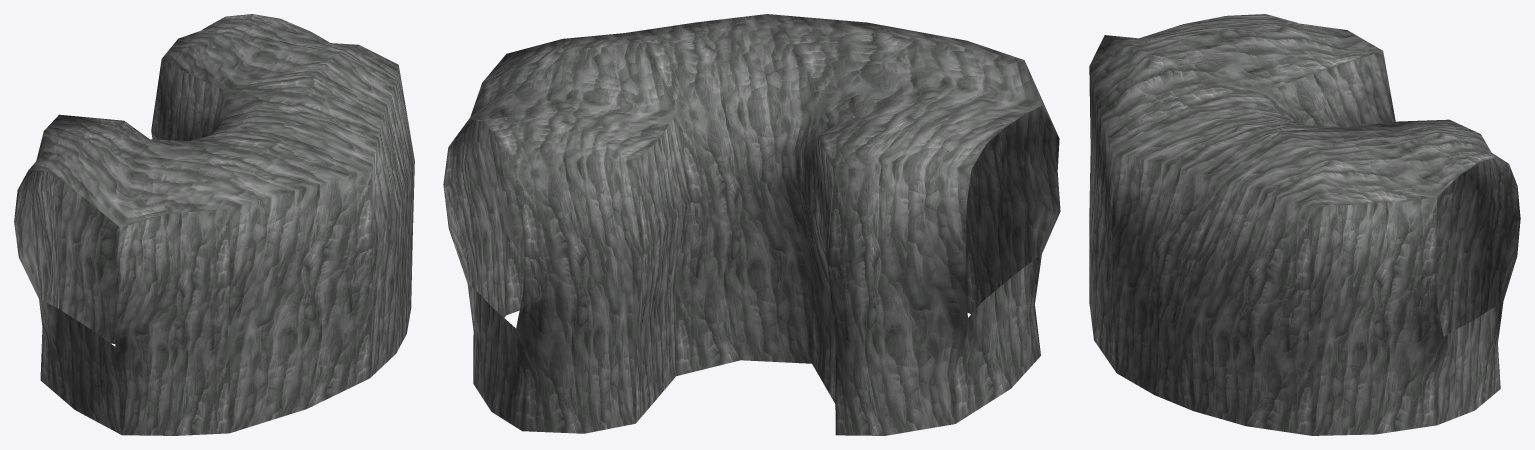
The model's file is SWORDLIGHT20_PS-AREA01_06.fbx.
The picture shows the model from 3 angles, left to right: view 1: azimuth 30°, elevation 25°; view 2: azimuth 150°, elevation 25°; view 3: azimuth 270°, elevation 25°; orthographic projection. The views are drawn at different scales.
Visible parts, largest first — view 1: SWORDLIGHT20_PS-AREA01_06; view 2: SWORDLIGHT20_PS-AREA01_06; view 3: SWORDLIGHT20_PS-AREA01_06.
Boxes of the visible parts, x1,y1,x2,y2 form: SWORDLIGHT20_PS-AREA01_06: (14, 14, 414, 435); SWORDLIGHT20_PS-AREA01_06: (443, 14, 1060, 435); SWORDLIGHT20_PS-AREA01_06: (1089, 14, 1520, 435).
Bounding box in the file's own units: 224089 × 135537 × 203209.
1 material, 1 textured.
